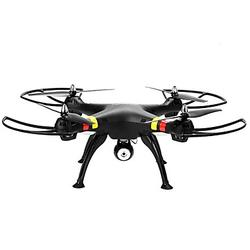drone: (1, 84, 247, 190)
